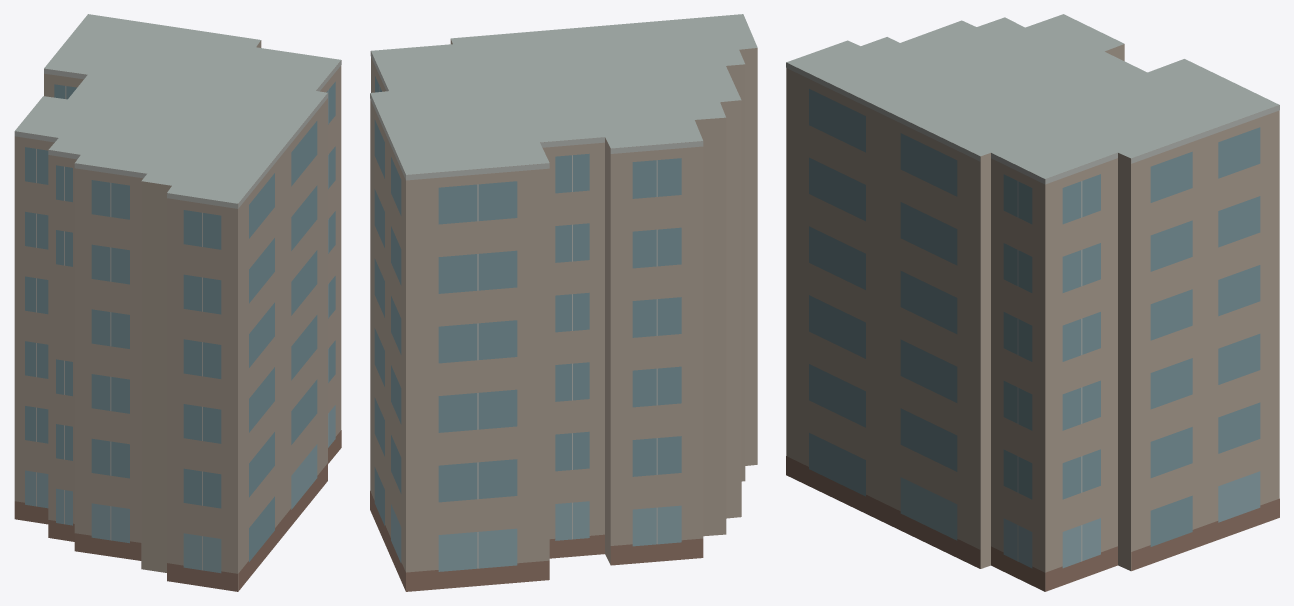
File: survey-upis-32660496.glb
The picture shows the model from 3 angles, left to right: view 1: azimuth 30°, elevation 25°; view 2: azimuth 150°, elevation 25°; view 3: azimuth 270°, elevation 25°; orthographic projection. The views are drawn at different scales.
Parts seen in each view (by area): view 1: survey-upis-32660496.tmp; view 2: survey-upis-32660496.tmp; view 3: survey-upis-32660496.tmp.
Boxes of the visible parts, x1,y1,x2,y2 form: survey-upis-32660496.tmp: [14, 14, 341, 591]; survey-upis-32660496.tmp: [370, 14, 757, 591]; survey-upis-32660496.tmp: [786, 14, 1279, 591].
Size of the model in its own units: 15.79 by 18.4 by 19.95.
